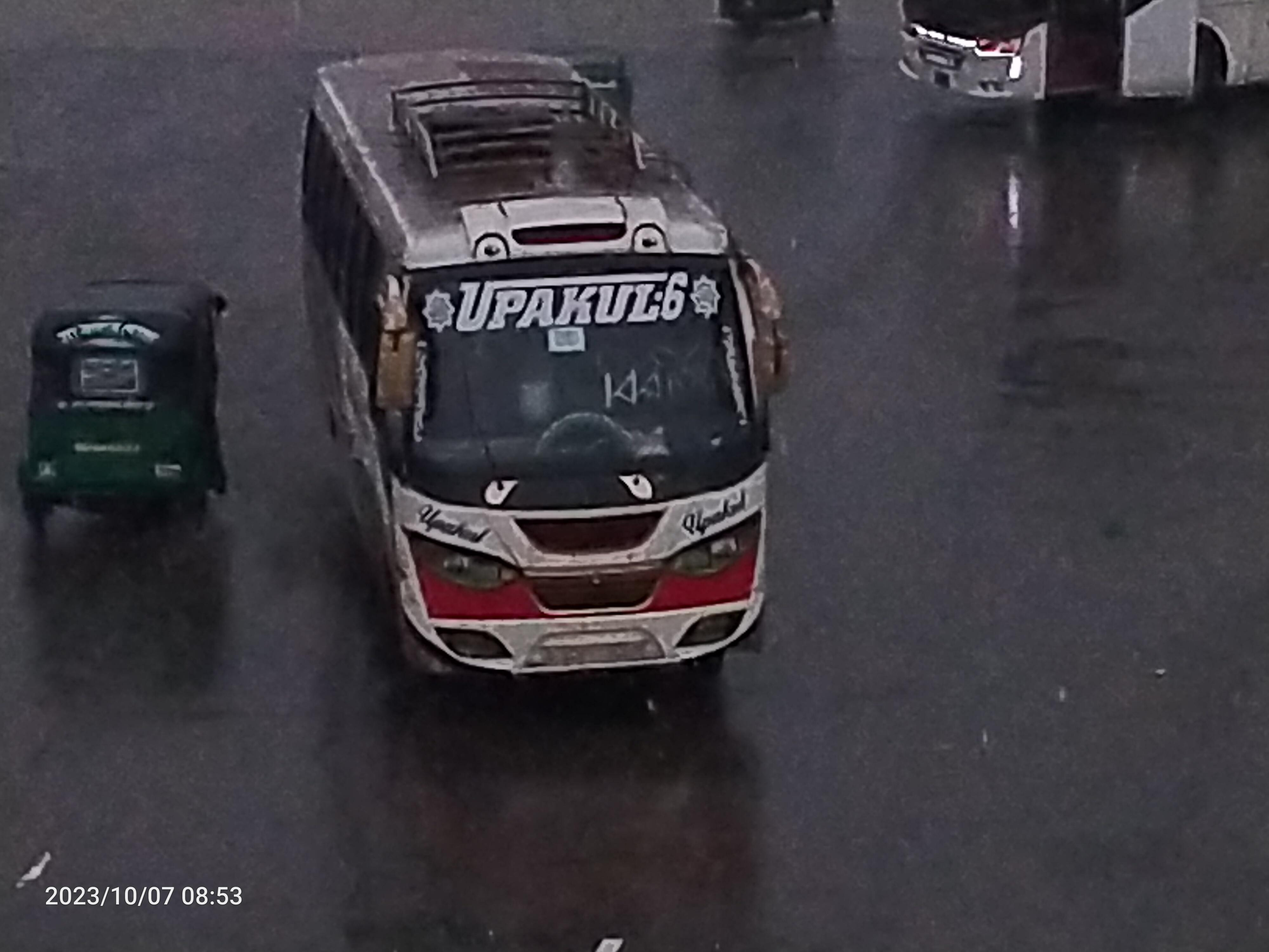Bus: (240, 29, 814, 731), (873, 0, 1269, 145)
